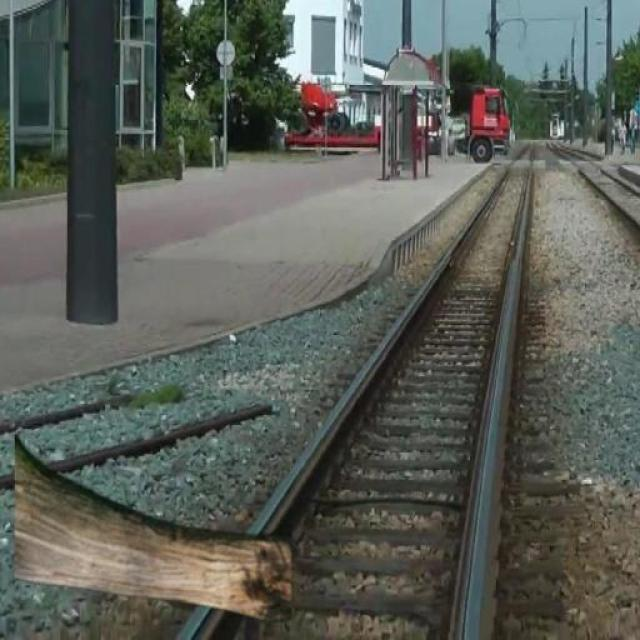Branches: (7, 443, 300, 628)
vehicle: (446, 76, 528, 172)
